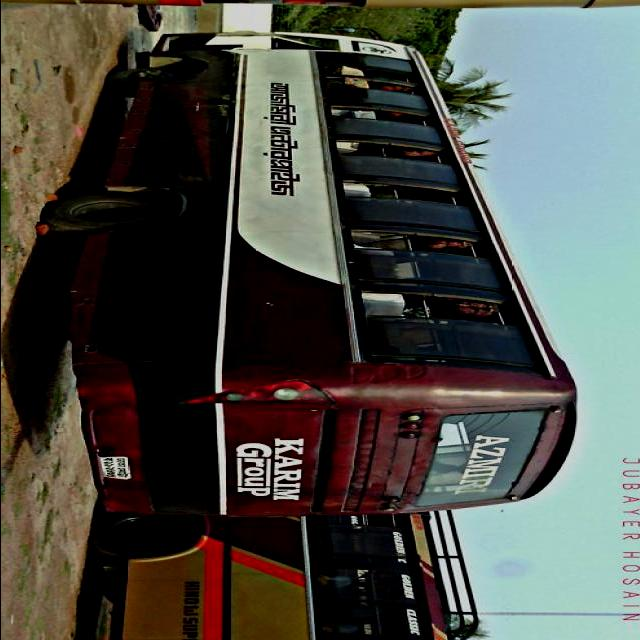bus: (38, 31, 587, 519)
